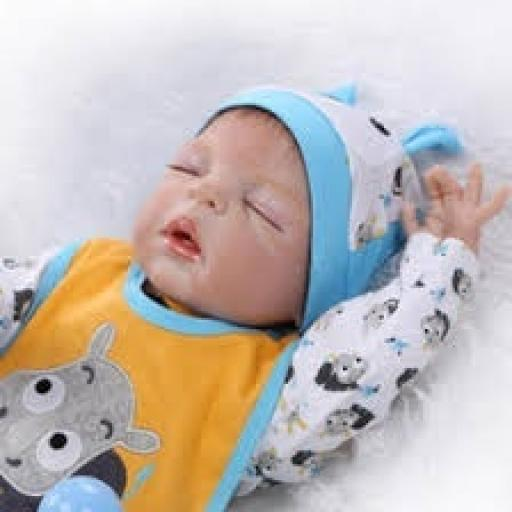sleeping: (0, 78, 510, 510)
